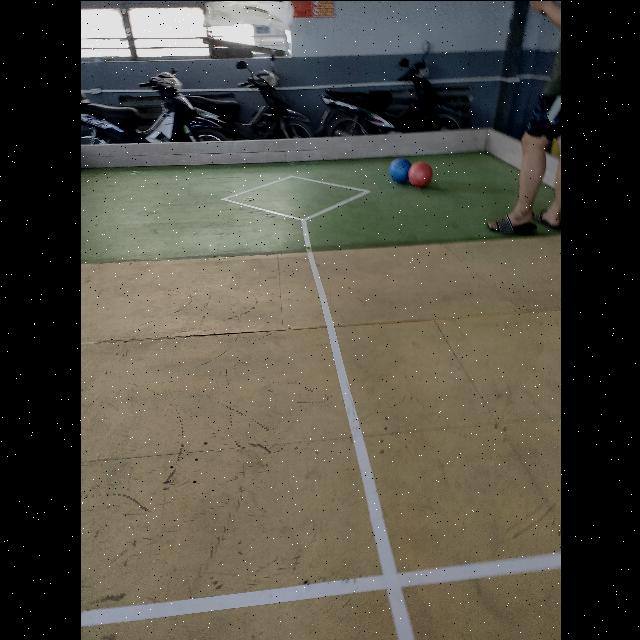B: (389, 157, 410, 183)
R: (408, 161, 432, 187)
